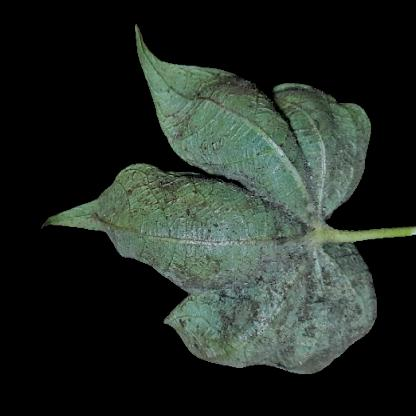curl_stage2: (205, 95, 281, 165), (280, 117, 337, 208), (102, 217, 210, 265), (205, 164, 246, 256), (146, 62, 196, 115)
sooty: (255, 221, 359, 355), (170, 261, 266, 355), (132, 169, 196, 225)
